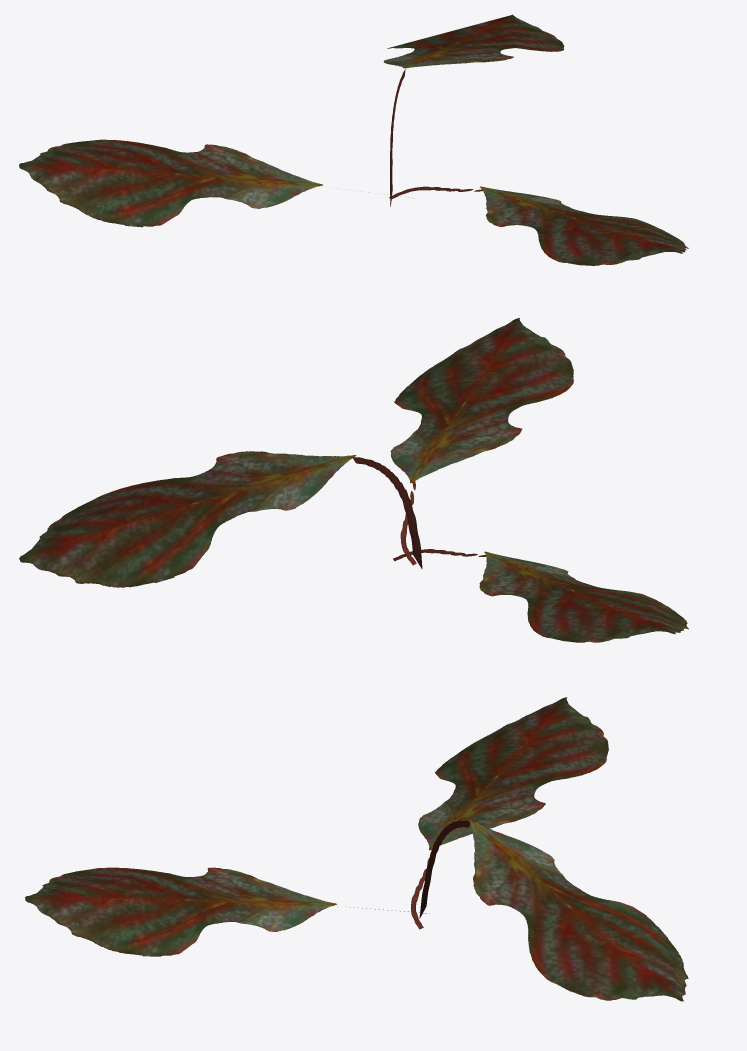
The model's file is Row Root D1.fbx.
3 views of the same model, one above another, from view 1: azimuth 30°, elevation 25°; view 2: azimuth 150°, elevation 25°; view 3: azimuth 270°, elevation 25° (orthographic). The views are drawn at different scales.
Visible parts, largest first — view 1: Row Root D1; view 2: Row Root D1; view 3: Row Root D1.
Part boxes in pixels (x1,y1,x2,y2): Row Root D1: (19,14,688,265); Row Root D1: (19,318,688,642); Row Root D1: (25,697,688,1001).
Size of the model in its own units: 181 by 39 by 173.
